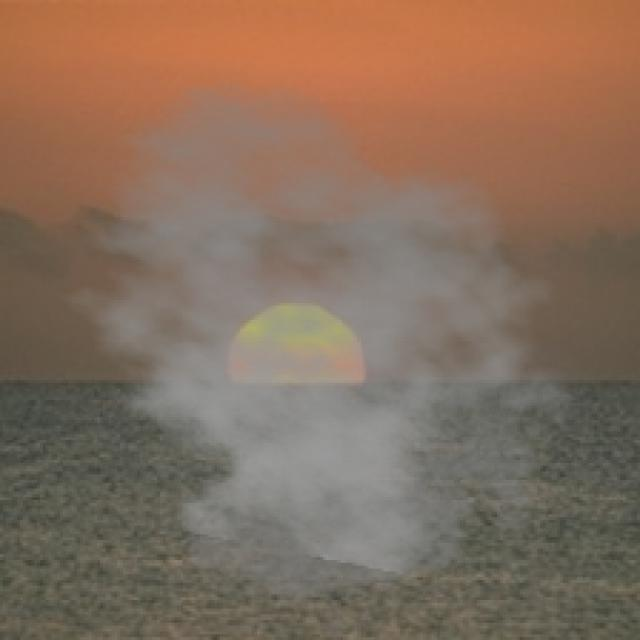smoke: (40, 77, 597, 614)
